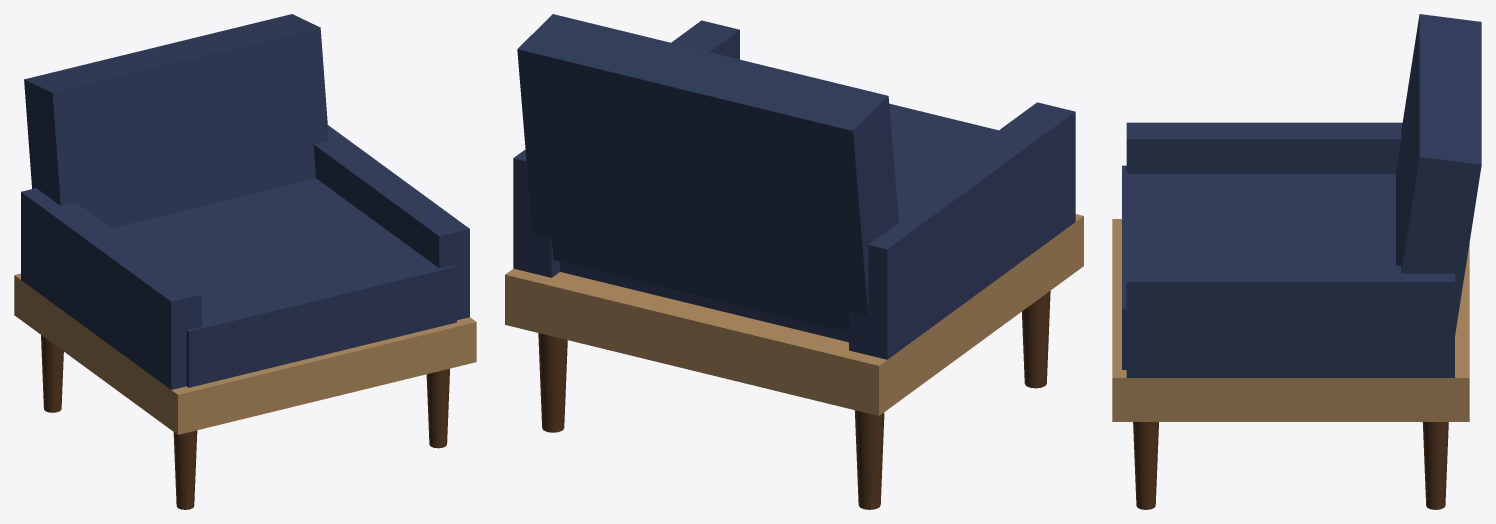
Rendered from armchair.glb.
The picture shows the model from 3 angles, left to right: view 1: azimuth 30°, elevation 25°; view 2: azimuth 150°, elevation 25°; view 3: azimuth 270°, elevation 25°; orthographic projection. The views are drawn at different scales.
Parts seen in each view (by area): view 1: back_cushion, seat_cushion, frame, armrest_left, armrest_right, leg_front_left, leg_front_right, leg_back_left; view 2: back_cushion, frame, armrest_left, seat_cushion, armrest_right, leg_back_left, leg_back_right, leg_front_left; view 3: armrest_right, seat_cushion, back_cushion, frame, armrest_left, leg_back_right, leg_front_right.
Boxes of the visible parts, x1=… form: back_cushion: x1=24, y1=14, x2=328, y2=227; seat_cushion: x1=112, y1=178, x2=456, y2=387; frame: x1=14, y1=273, x2=476, y2=434; armrest_left: x1=21, y1=188, x2=201, y2=389; armrest_right: x1=313, y1=125, x2=469, y2=320; leg_front_left: x1=173, y1=430, x2=197, y2=509; leg_front_right: x1=426, y1=368, x2=449, y2=448; leg_back_left: x1=41, y1=335, x2=63, y2=412; back_cushion: x1=517, y1=14, x2=898, y2=331; frame: x1=505, y1=214, x2=1083, y2=415; armrest_left: x1=849, y1=102, x2=1075, y2=359; seat_cushion: x1=560, y1=103, x2=998, y2=342; armrest_right: x1=513, y1=20, x2=739, y2=277; leg_back_left: x1=854, y1=410, x2=884, y2=509; leg_back_right: x1=538, y1=333, x2=567, y2=432; leg_front_left: x1=1022, y1=291, x2=1050, y2=388; armrest_right: x1=1126, y1=265, x2=1454, y2=377; seat_cushion: x1=1122, y1=165, x2=1395, y2=369; back_cushion: x1=1396, y1=14, x2=1481, y2=335; frame: x1=1112, y1=219, x2=1469, y2=421; armrest_left: x1=1126, y1=122, x2=1402, y2=173; leg_back_right: x1=1422, y1=422, x2=1448, y2=509; leg_front_right: x1=1133, y1=422, x2=1158, y2=509.
Bounding box in the file's own units: 0.78 × 0.8069 × 0.7651.
